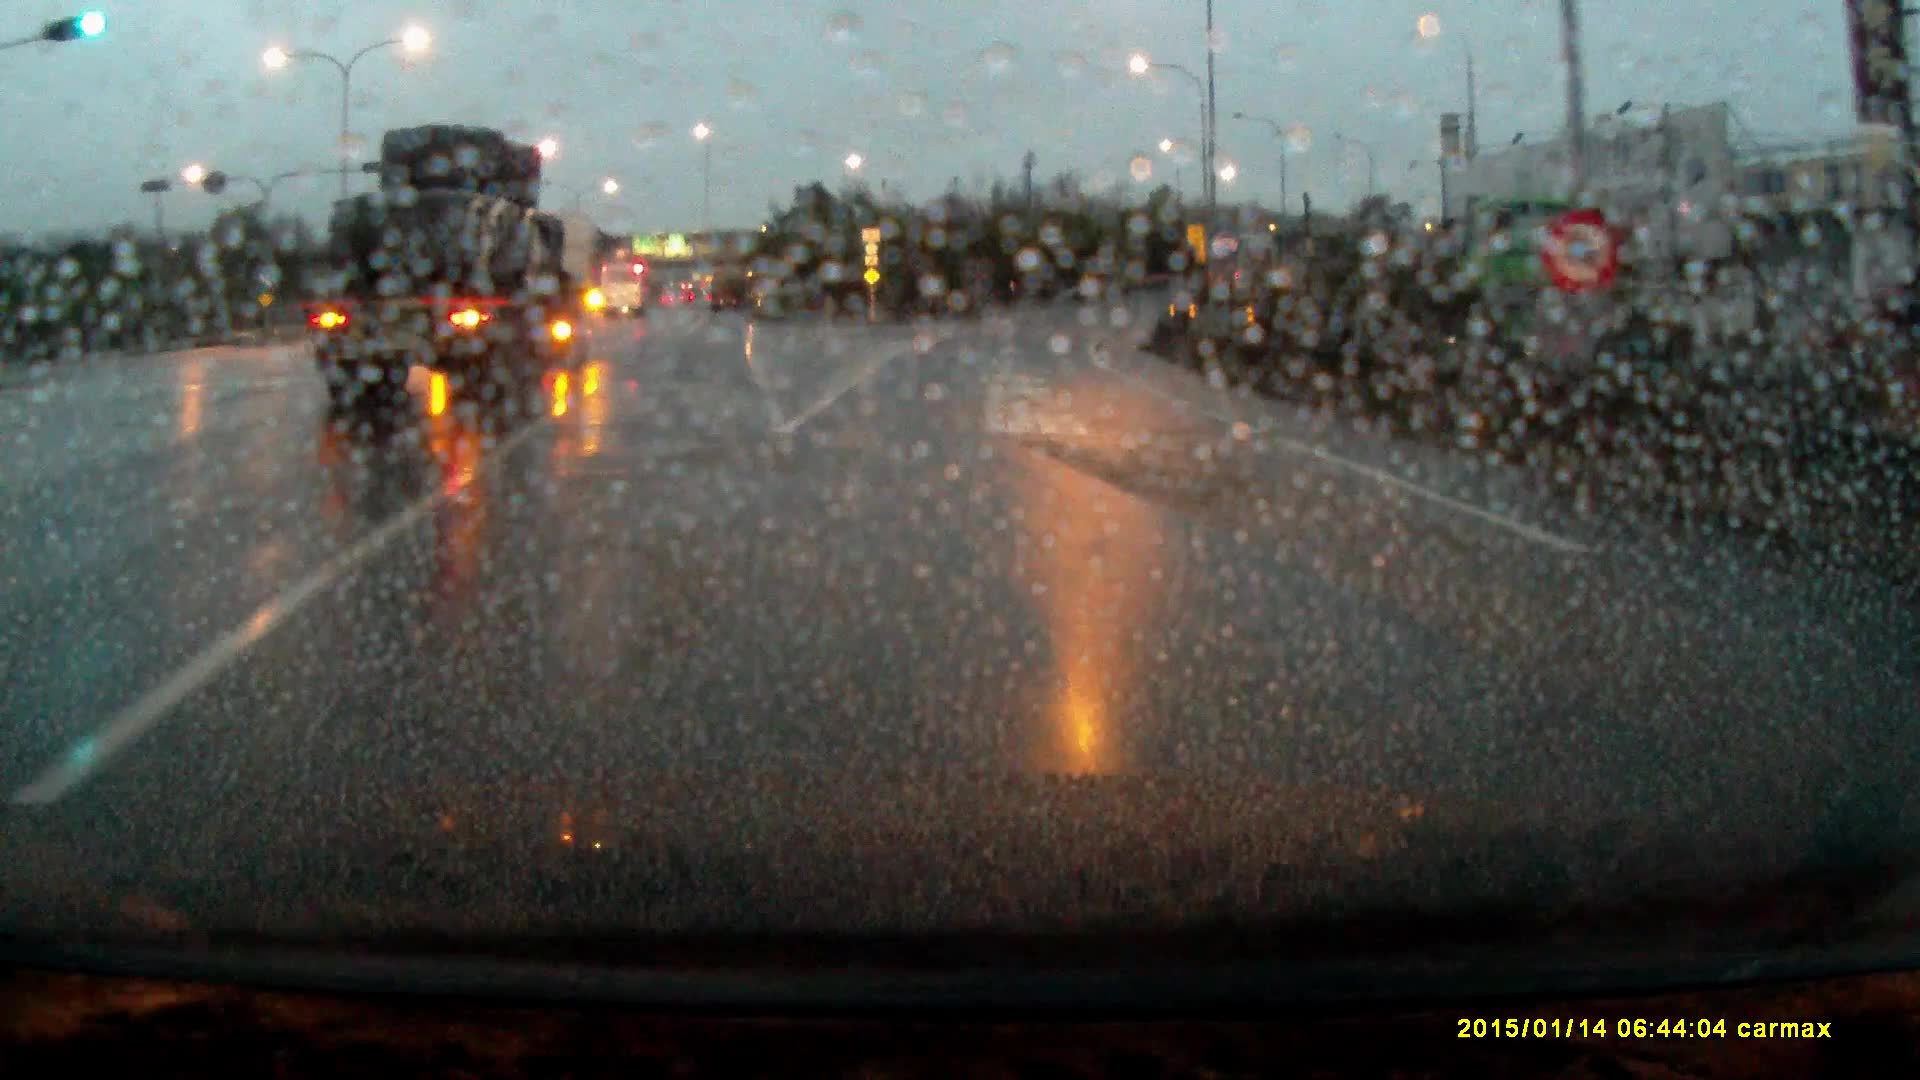vehicle: (305, 131, 605, 419), (601, 264, 657, 320)
